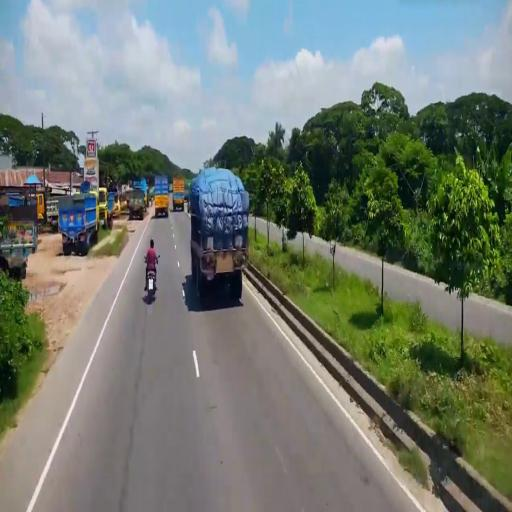motorbike: (142, 238, 161, 308)
truck: (188, 166, 251, 312), (59, 188, 102, 259), (154, 173, 173, 223), (173, 173, 186, 216)
